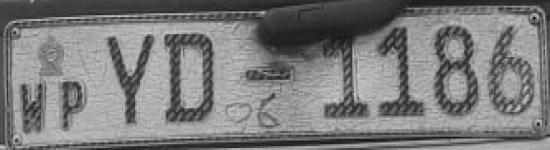1: (310, 25, 373, 124), (373, 25, 429, 125)
6: (486, 23, 538, 119)
8: (429, 21, 485, 122)
D: (161, 29, 218, 128), (242, 61, 292, 89)
P: (58, 74, 90, 136)
W: (16, 76, 51, 138)
Y: (105, 30, 157, 125)
